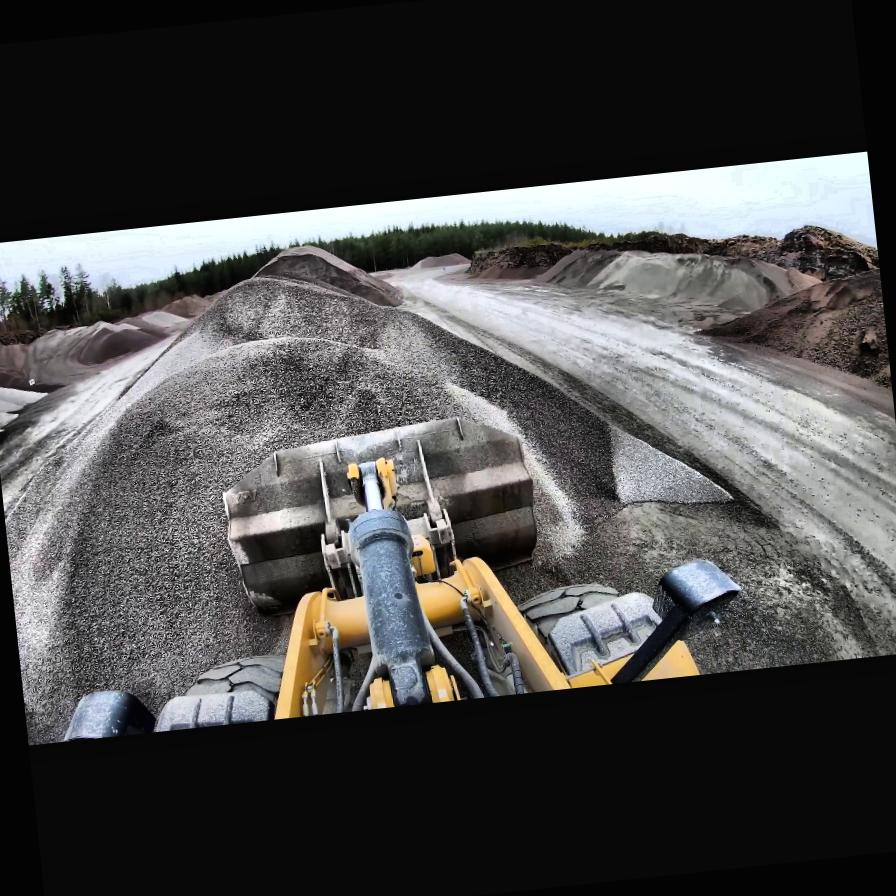anchor: (347, 455, 400, 513)
pile of gravel: (11, 290, 742, 634), (683, 269, 895, 441), (547, 228, 801, 340), (0, 304, 200, 395), (246, 234, 404, 322), (114, 304, 196, 340), (154, 291, 216, 322), (410, 251, 471, 270)
